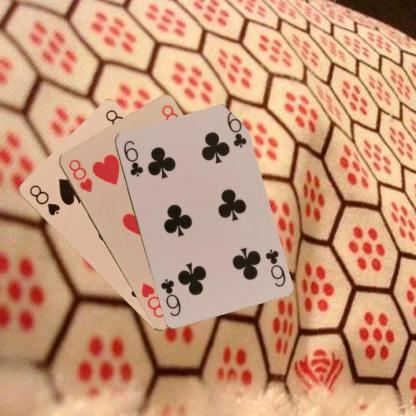6c: (262, 246, 287, 288), (120, 137, 145, 178)
8h: (66, 156, 93, 194)
8s: (26, 182, 61, 217)
